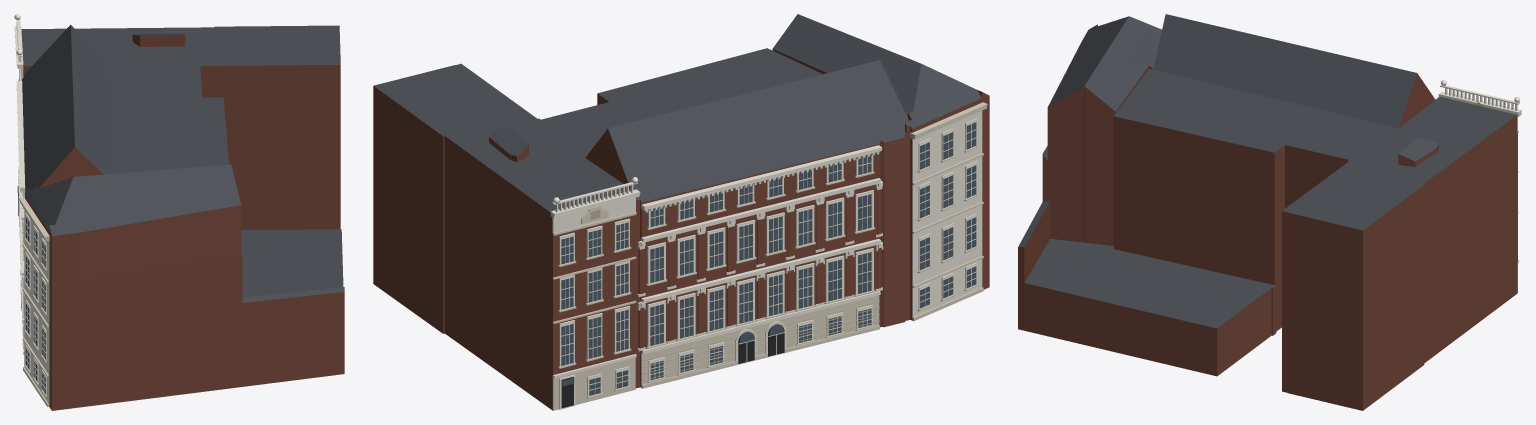
Rendered from coymanshuis.glb.
The picture shows the model from 3 angles, left to right: view 1: azimuth 30°, elevation 25°; view 2: azimuth 150°, elevation 25°; view 3: azimuth 270°, elevation 25°; orthographic projection. The views are drawn at different scales.
Parts seen in each view (by area): view 1: coymanshuis; view 2: coymanshuis; view 3: coymanshuis.
Boxes of the visible parts, bbox=[...] form: coymanshuis: bbox=[14, 14, 344, 410]; coymanshuis: bbox=[373, 14, 989, 410]; coymanshuis: bbox=[1018, 14, 1521, 410].
Bounding box in the file's own units: 44.41 × 21.91 × 45.39.
